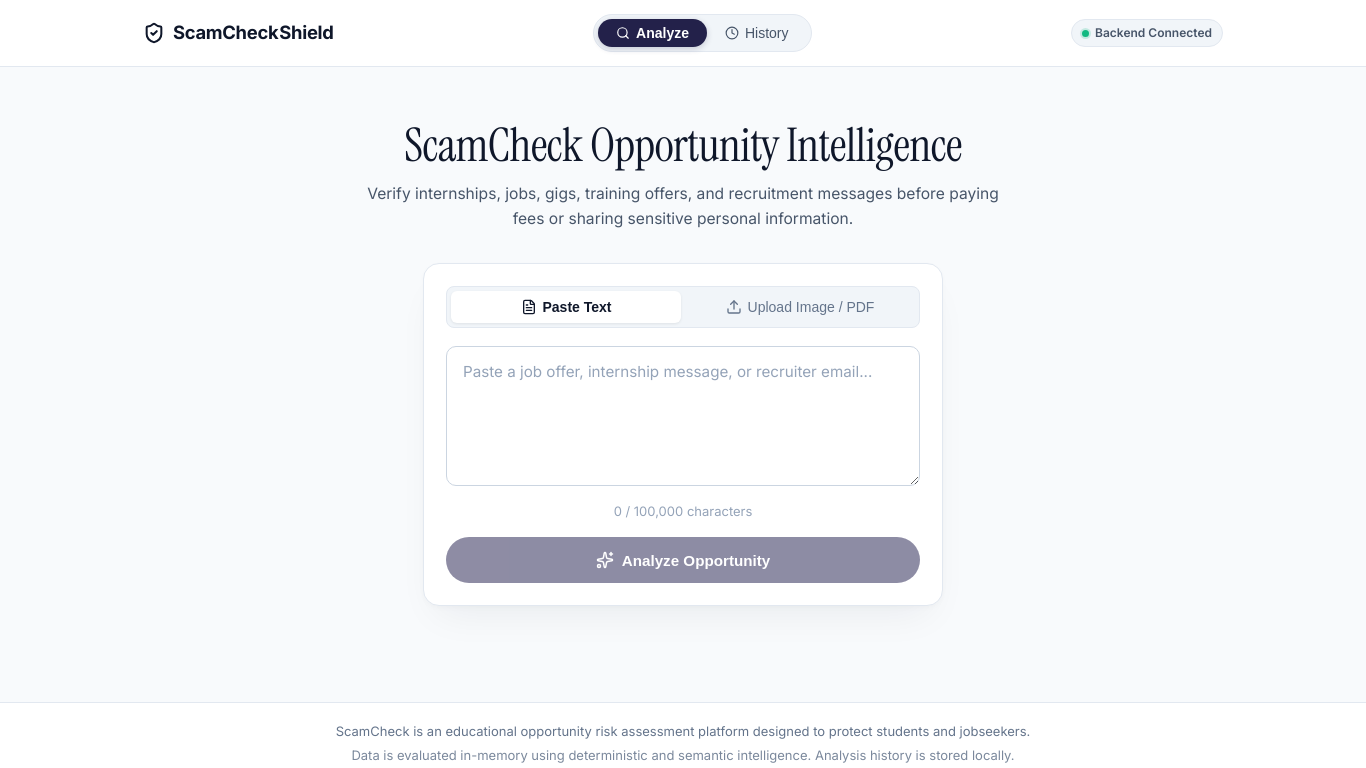
ScamCheck Frontend End-to-End Unit & Integration Test Suite › 11. renders friendly error alert on backend 500 without crashing
Type "Internal error test" into the text box with placeholder "Paste a job offer" at (683, 416), box [446, 346, 920, 486]
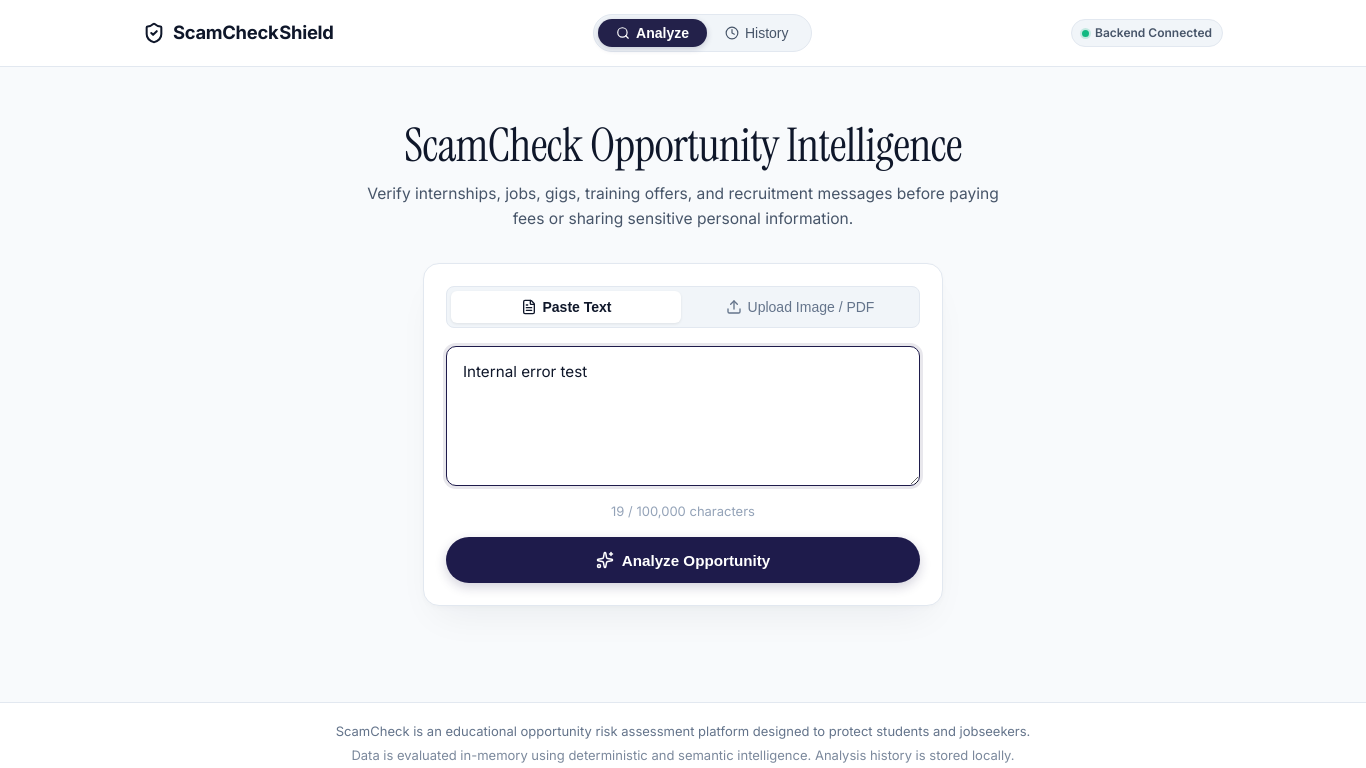
Click the button "Analyze Opportunity" at (683, 560), box [446, 537, 920, 583]
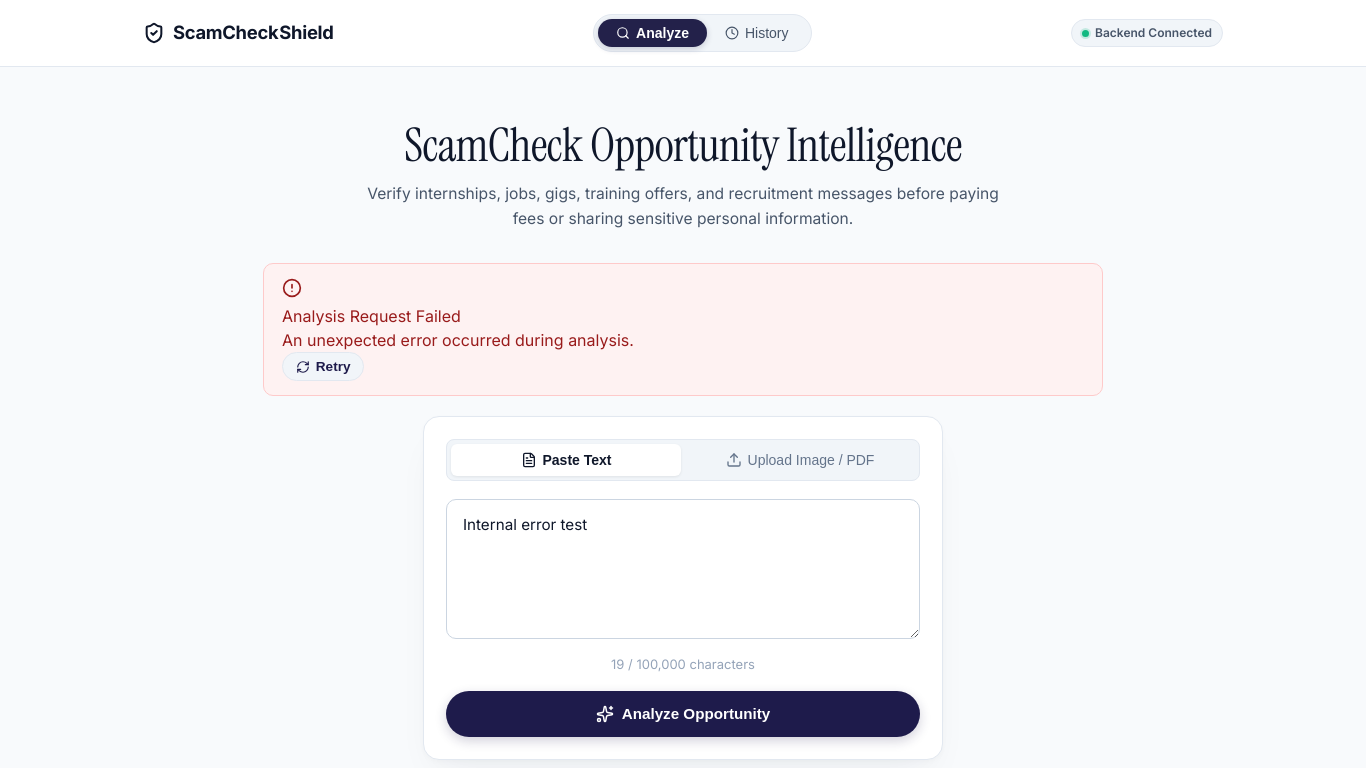
Expected: the text "An unexpected error occurred during analysis." is shown, [282, 330, 634, 350]
